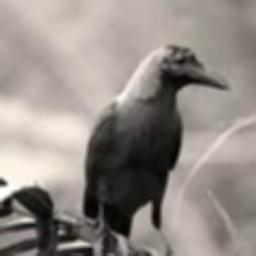Crow: (82, 43, 232, 256)
